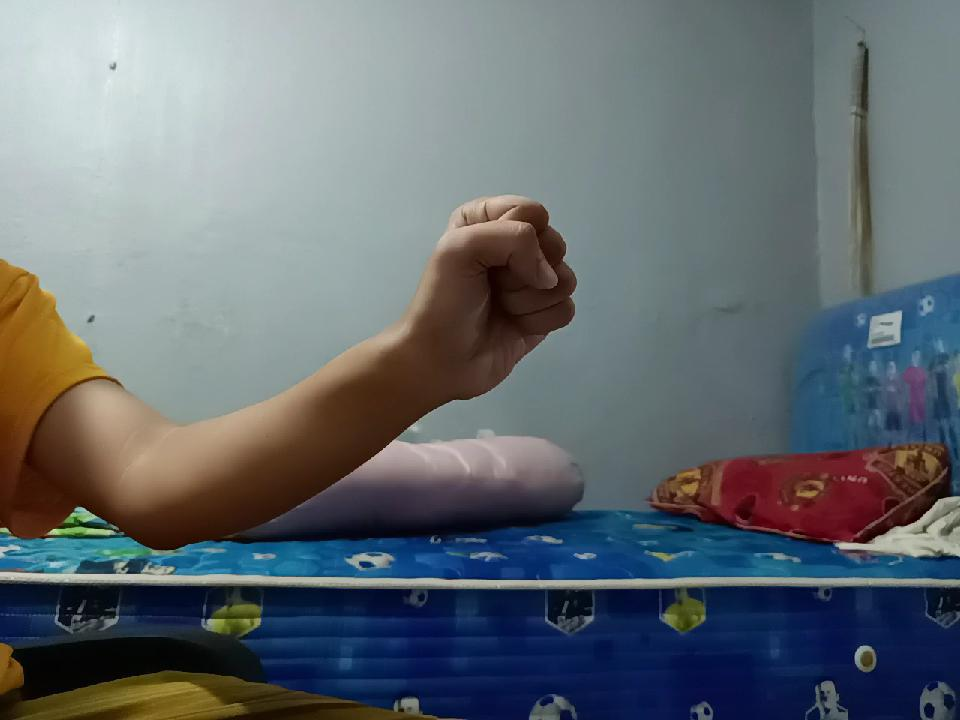rock: (414, 187, 576, 395)
